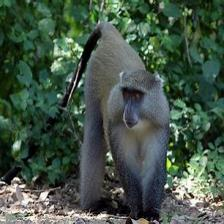monkey: (77, 25, 179, 221)
